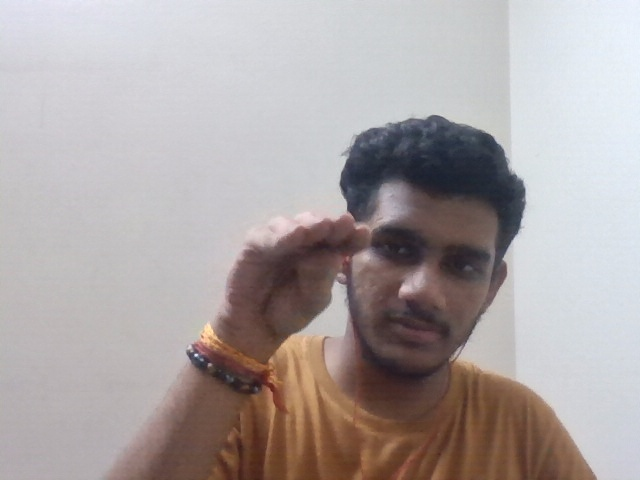no: (214, 200, 378, 357)
